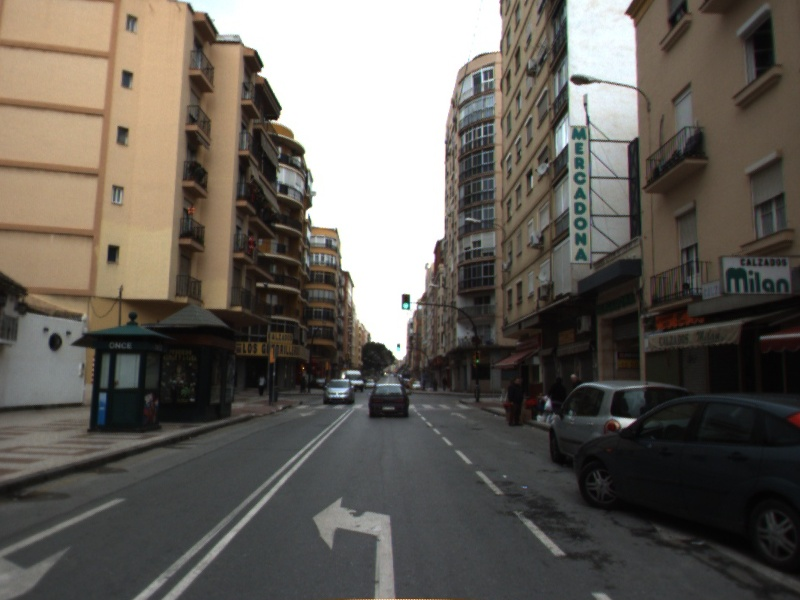LEFT: (310, 495, 396, 600)
